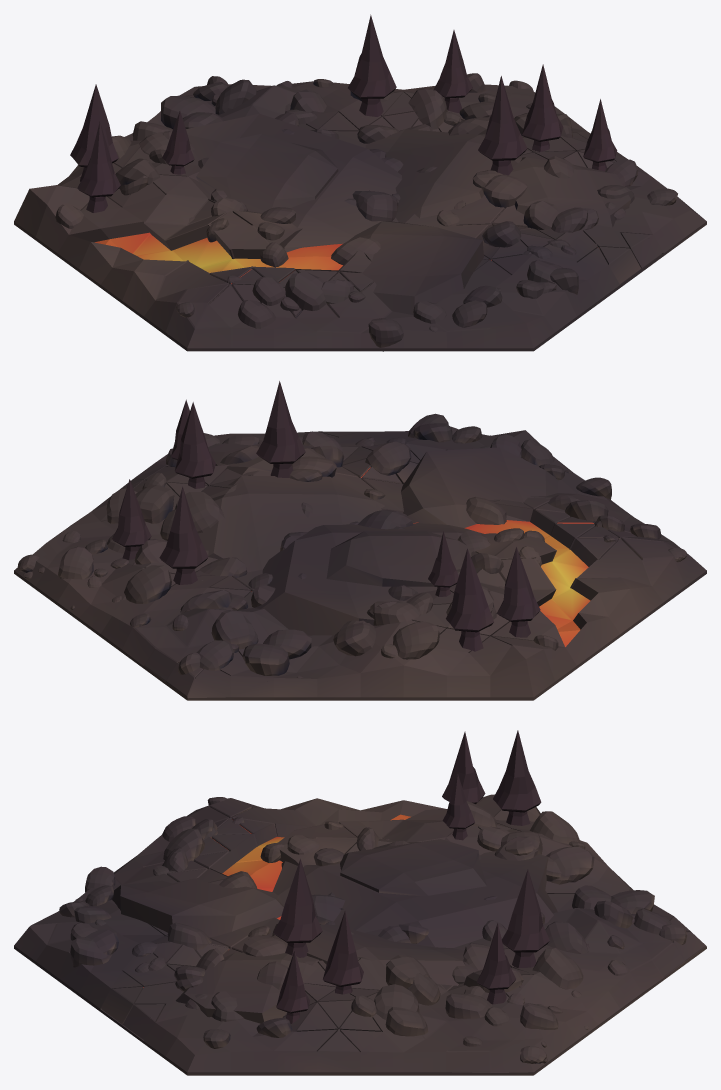
The model's file is scorched.glb.
3 views of the same model, one above another, from view 1: azimuth 30°, elevation 25°; view 2: azimuth 150°, elevation 25°; view 3: azimuth 270°, elevation 25° (orthographic).
Visible parts, largest first — view 1: scorched; view 2: scorched; view 3: scorched.
Part boxes in pixels (box(x1,y1,x2,y2)): scorched: box(14, 14, 706, 351); scorched: box(14, 381, 706, 700); scorched: box(14, 730, 706, 1075).
Bounding box in the file's own units: 1.73 × 0.5255 × 2.
